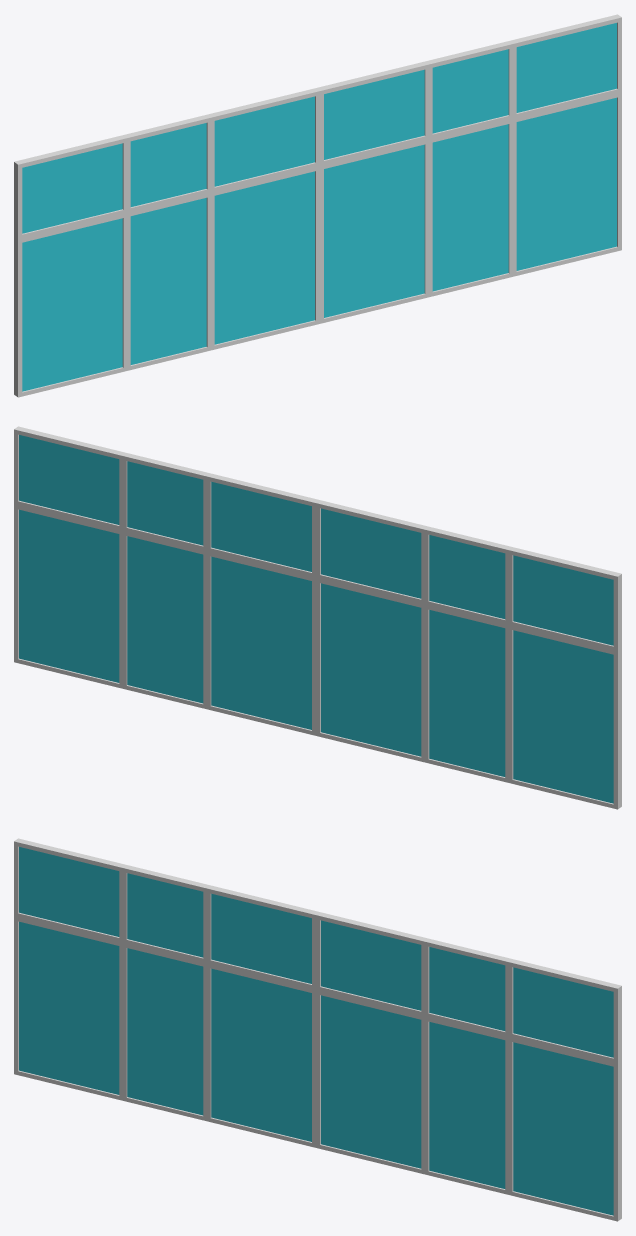
File: windows_1_etazh.fbx
The picture shows the model from 3 angles, top to bottom: view 1: azimuth 30°, elevation 25°; view 2: azimuth 150°, elevation 25°; view 3: azimuth 330°, elevation 25°; orthographic projection.
Parts seen in each view (by area): view 1: Куб.001; view 2: Куб.001; view 3: Куб.001.
Boxes of the visible parts, <box> form: Куб.001: <box>14,14,621,397</box>; Куб.001: <box>14,426,621,809</box>; Куб.001: <box>14,838,621,1221</box>.
Size of the model in its own units: 589 by 217 by 7.
